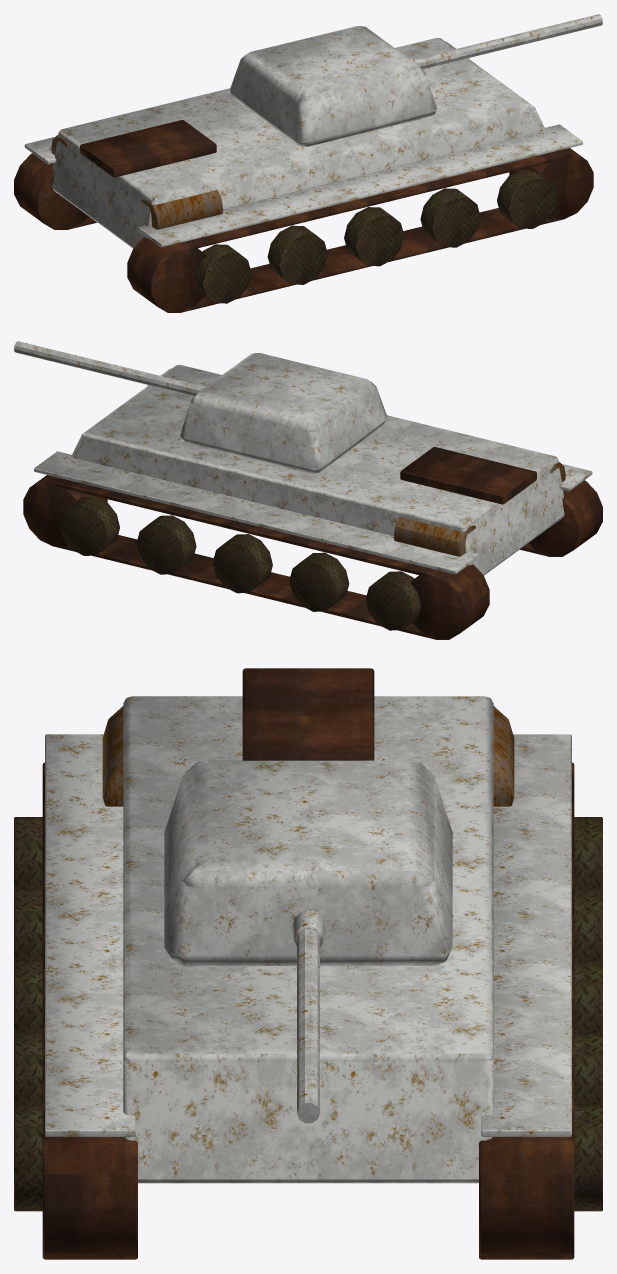
The model's file is veh_tank_old.gltf.
The picture shows the model from 3 angles, top to bottom: view 1: azimuth 30°, elevation 25°; view 2: azimuth 150°, elevation 25°; view 3: azimuth 270°, elevation 25°; orthographic projection. The views are drawn at different scales.
Parts seen in each view (by area): view 1: box.004, box.008, box.005, box.007, cyl, box, box.001, cyl.007, cyl.005, cyl.003, cyl.004, cyl.006 (+5 smaller); view 2: box.004, box.008, box.006, box.007, cyl.007, box.002, box.003, cyl, cyl.012, cyl.010, cyl.011, cyl.013 (+5 smaller); view 3: box.004, box.008, box.005, box.006, box.007, cyl.001, cyl.008, cyl.017, cyl.006, cyl.013, cyl.003, cyl.004 (+10 smaller).
Part boxes in pixels (x1=…): box.004: x1=52, y1=37, x2=545, y2=248; box.008: x1=230, y1=26, x2=436, y2=146; box.005: x1=138, y1=124, x2=582, y2=247; box.007: x1=80, y1=120, x2=216, y2=177; cyl: x1=127, y1=237, x2=206, y2=312; box: x1=183, y1=208, x2=562, y2=312; box.001: x1=177, y1=151, x2=562, y2=250; cyl.007: x1=14, y1=153, x2=88, y2=229; cyl.005: x1=420, y1=188, x2=480, y2=247; cyl.003: x1=267, y1=225, x2=327, y2=284; cyl.004: x1=344, y1=207, x2=404, y2=266; cyl.006: x1=497, y1=169, x2=556, y2=228; box.004: x1=71, y1=364, x2=564, y2=575; box.008: x1=180, y1=353, x2=386, y2=473; box.006: x1=34, y1=451, x2=478, y2=574; box.007: x1=400, y1=447, x2=536, y2=504; cyl.007: x1=410, y1=564, x2=489, y2=639; box.002: x1=54, y1=535, x2=433, y2=639; box.003: x1=54, y1=478, x2=439, y2=577; cyl: x1=528, y1=480, x2=602, y2=556; cyl.012: x1=136, y1=515, x2=196, y2=574; cyl.010: x1=289, y1=552, x2=349, y2=611; cyl.011: x1=212, y1=534, x2=272, y2=593; cyl.013: x1=60, y1=496, x2=119, y2=555; box.004: x1=123, y1=696, x2=493, y2=1183; box.008: x1=164, y1=760, x2=452, y2=965; box.005: x1=45, y1=734, x2=135, y2=1136; box.006: x1=481, y1=734, x2=571, y2=1136; box.007: x1=242, y1=668, x2=374, y2=760; cyl.001: x1=42, y1=1127, x2=137, y2=1259; cyl.008: x1=479, y1=1127, x2=574, y2=1259; cyl.017: x1=297, y1=929, x2=319, y2=1123; cyl.006: x1=14, y1=1104, x2=42, y2=1211; cyl.013: x1=574, y1=1104, x2=602, y2=1211; cyl.003: x1=14, y1=888, x2=42, y2=961; cyl.004: x1=14, y1=960, x2=42, y2=1033.
Bounding box in the file's own units: 6.99 × 1.95 × 3.58.
4 materials, 4 textured.
